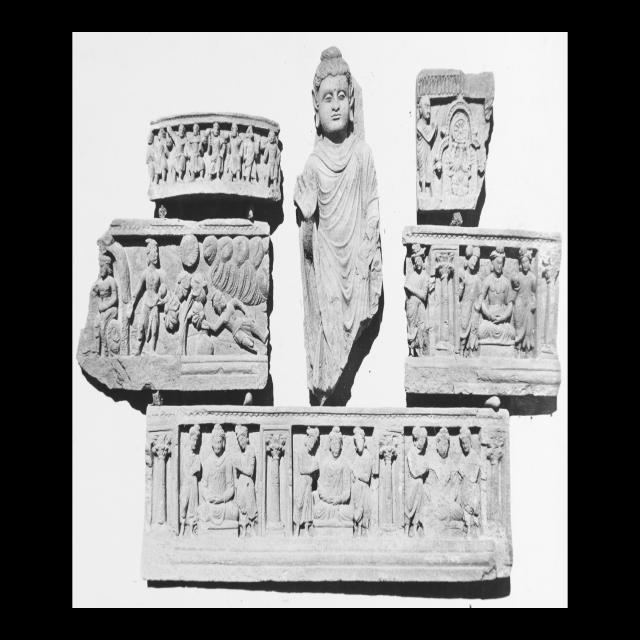buddha-sitting: (199, 418, 243, 538), (421, 430, 470, 533), (477, 240, 522, 347), (314, 433, 359, 526)
buddha-standing: (291, 40, 384, 406)
